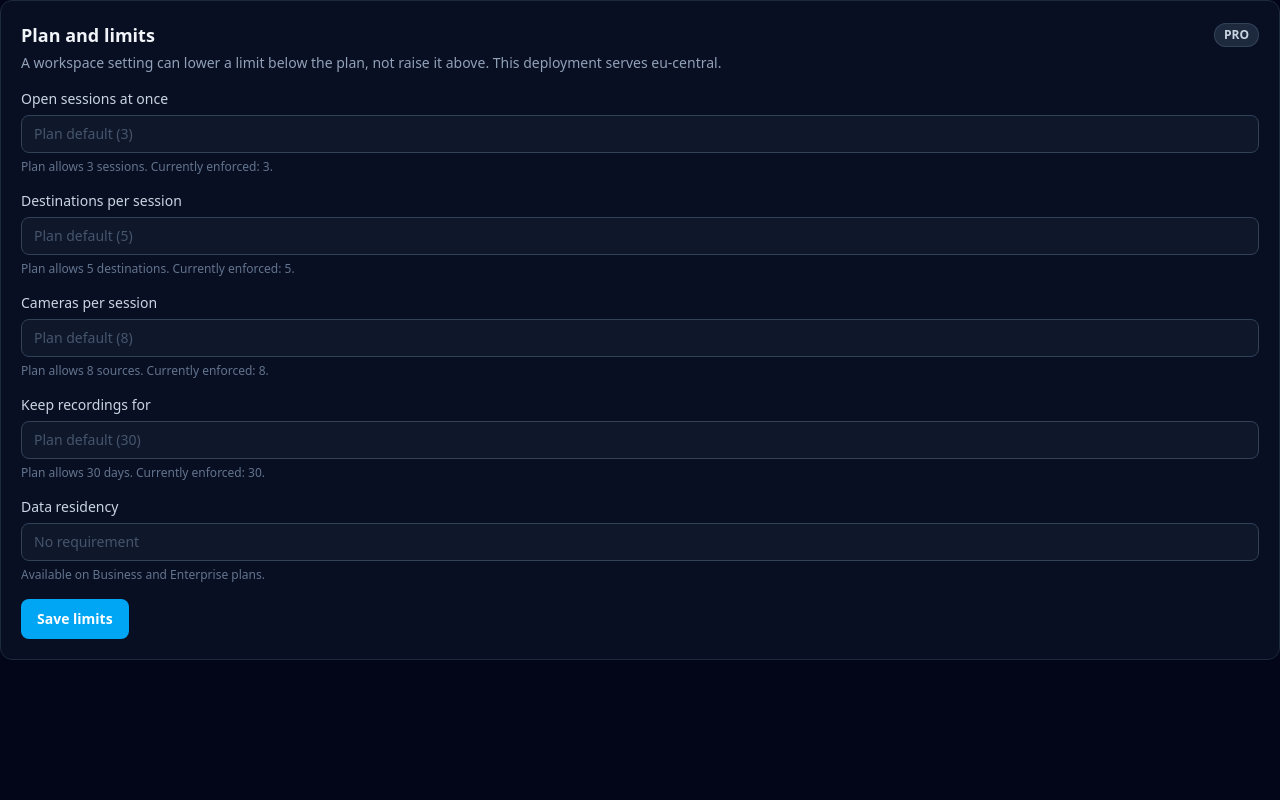
it: LimitsPanel › surfaces a rejected save instead of appearing to succeed
Click the button "Save limits".
click(75, 619)  # box [21,599,129,639]
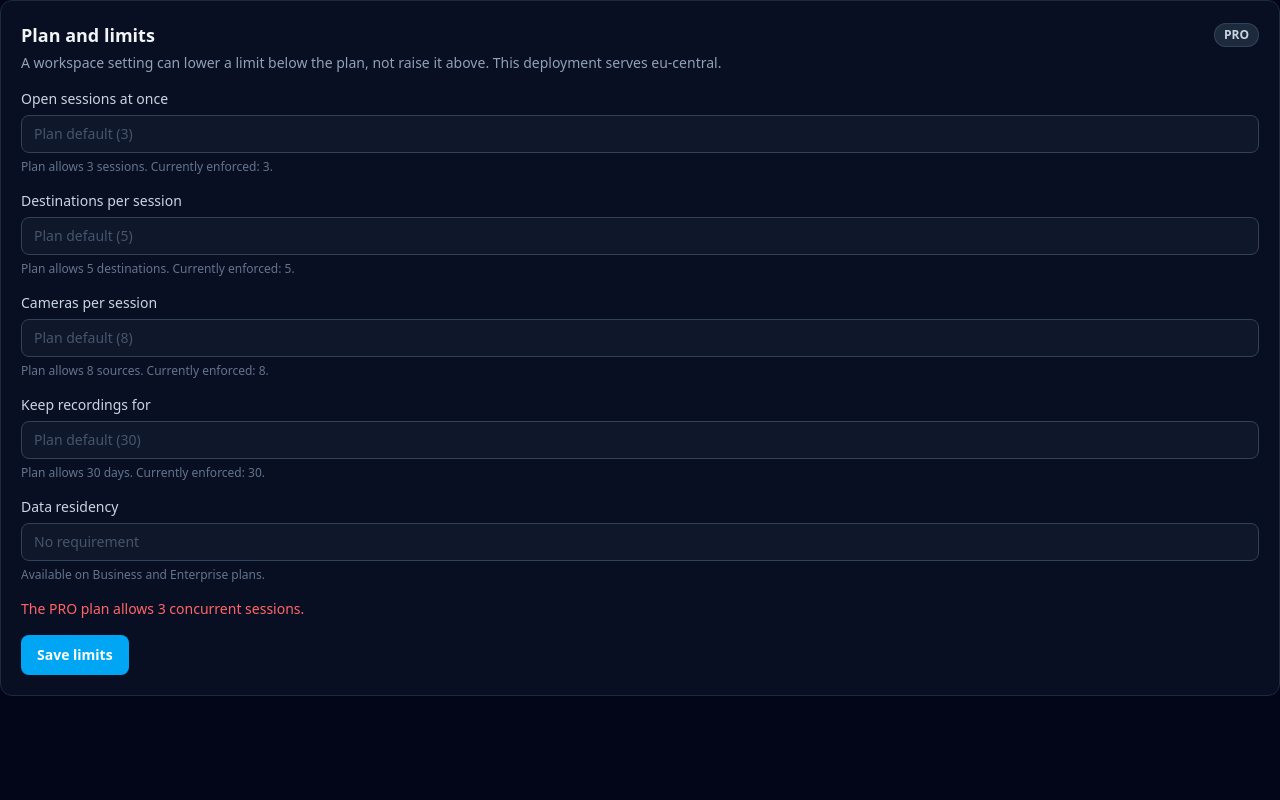
Expected: the message shows "PRO plan allows 3", [21,599,304,618]
